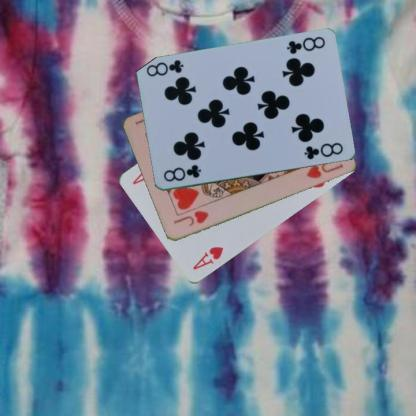8c: (284, 34, 326, 56), (161, 162, 202, 184)
Ah: (190, 244, 225, 271)
Jh: (170, 208, 210, 228)
